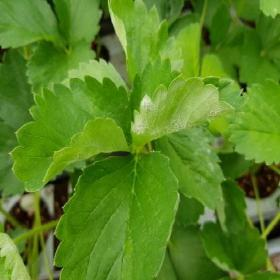Powdery Mildew Leaf: (128, 52, 250, 154), (153, 120, 226, 212), (108, 0, 184, 83), (0, 229, 31, 279)
